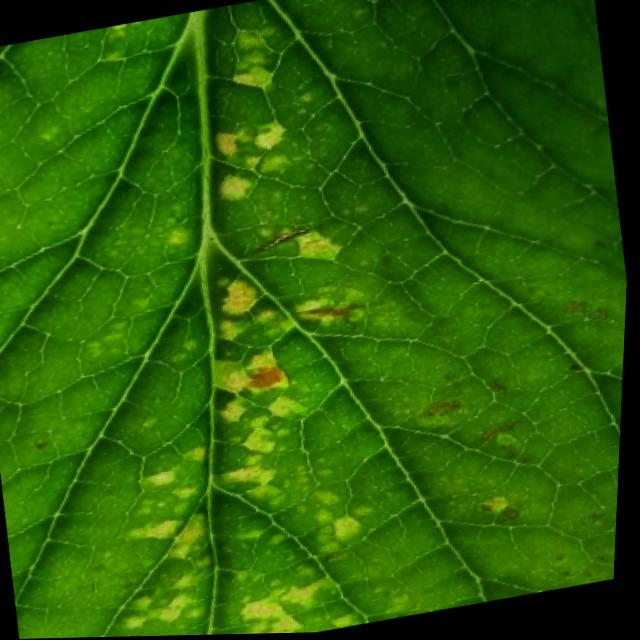Angular Leafspot: (17, 0, 622, 638)
